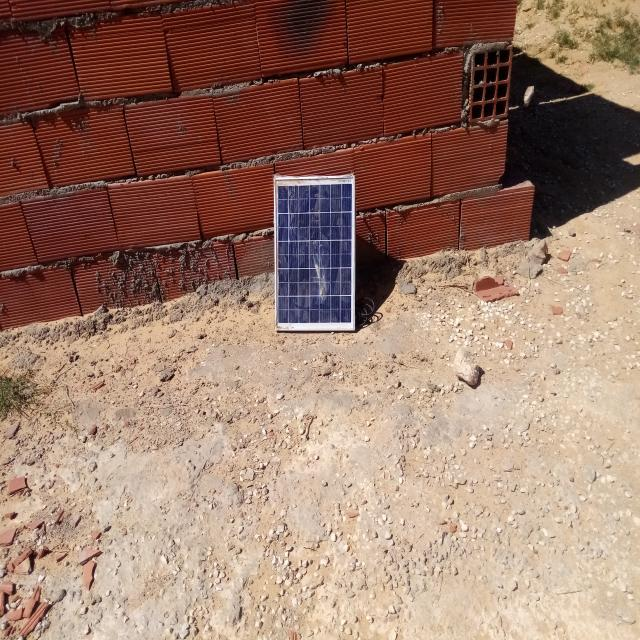faulty: (274, 176, 354, 330)
